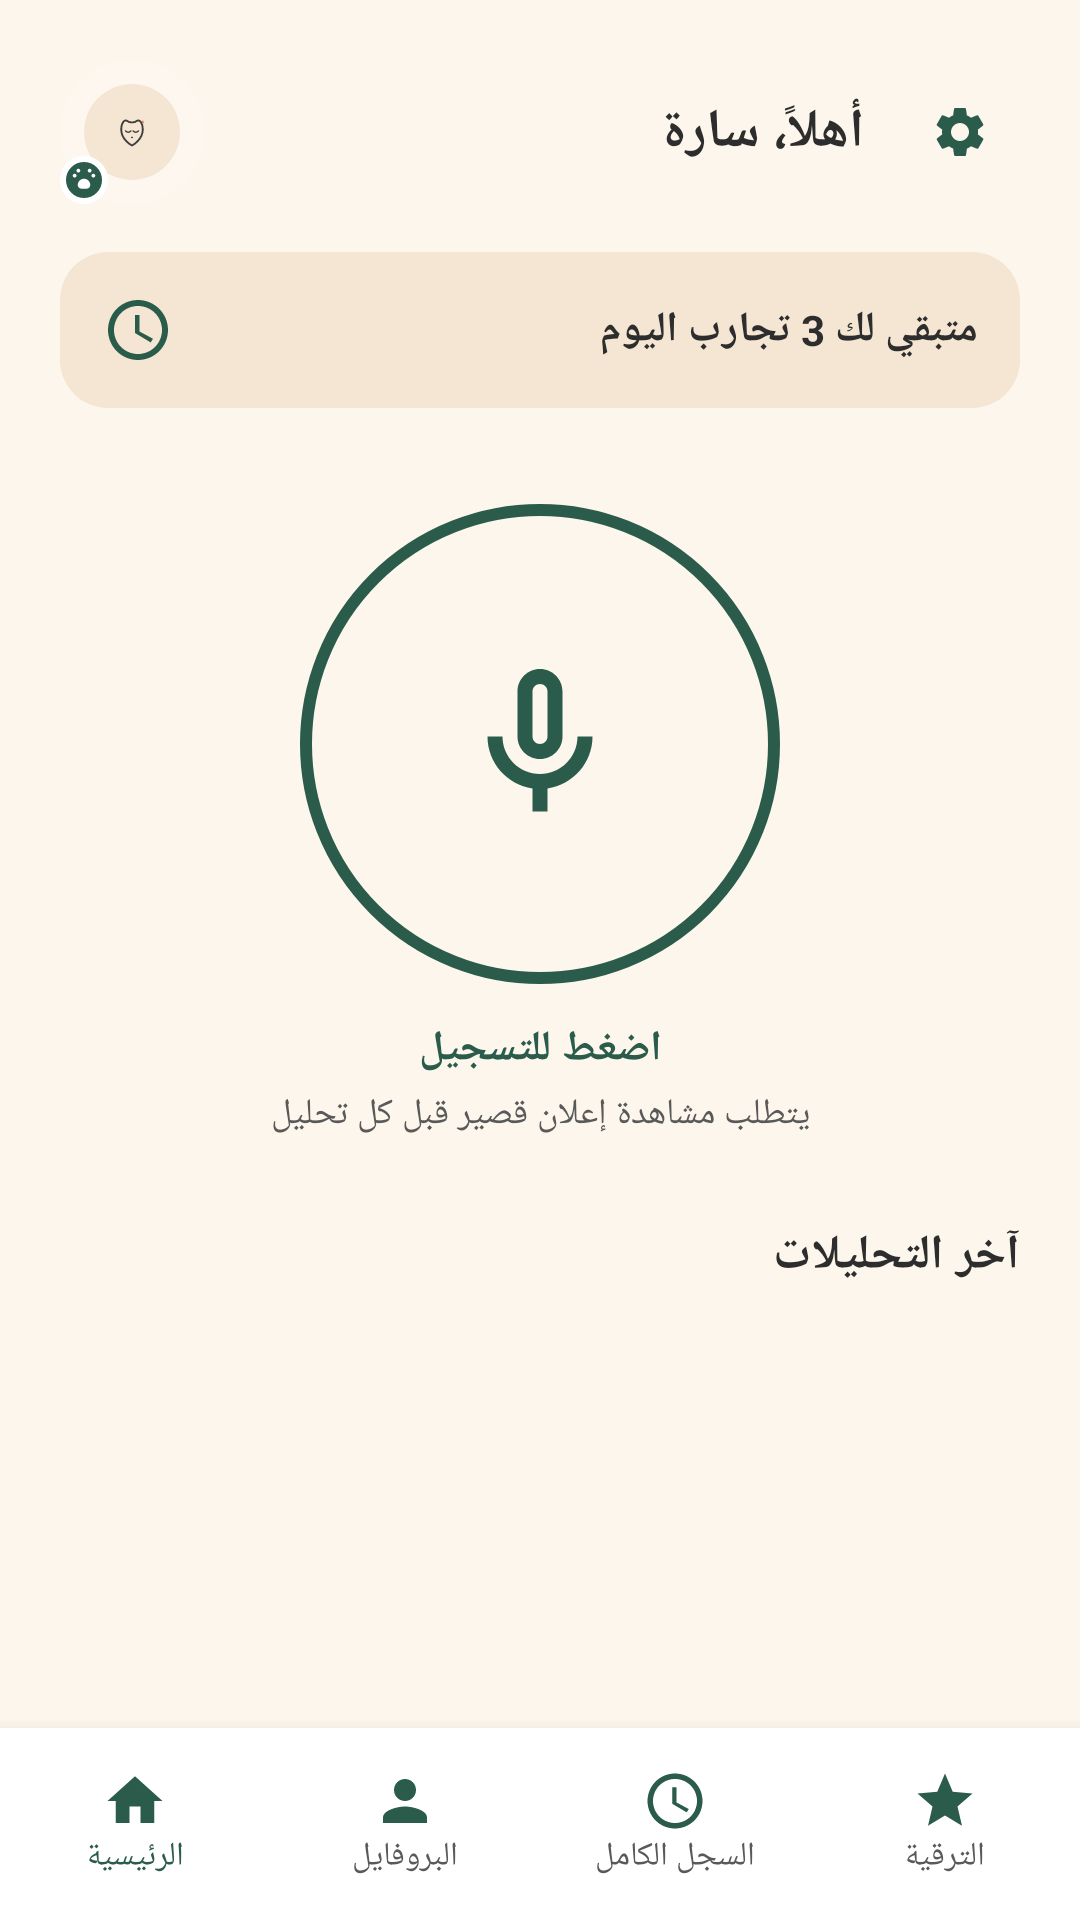

Screen size 1080×1920. Icon name, then its center in pixels as (x,y):
paw: (84,180)
أيقونة التجارب: (138,330)
الإعدادات: (960,132)
